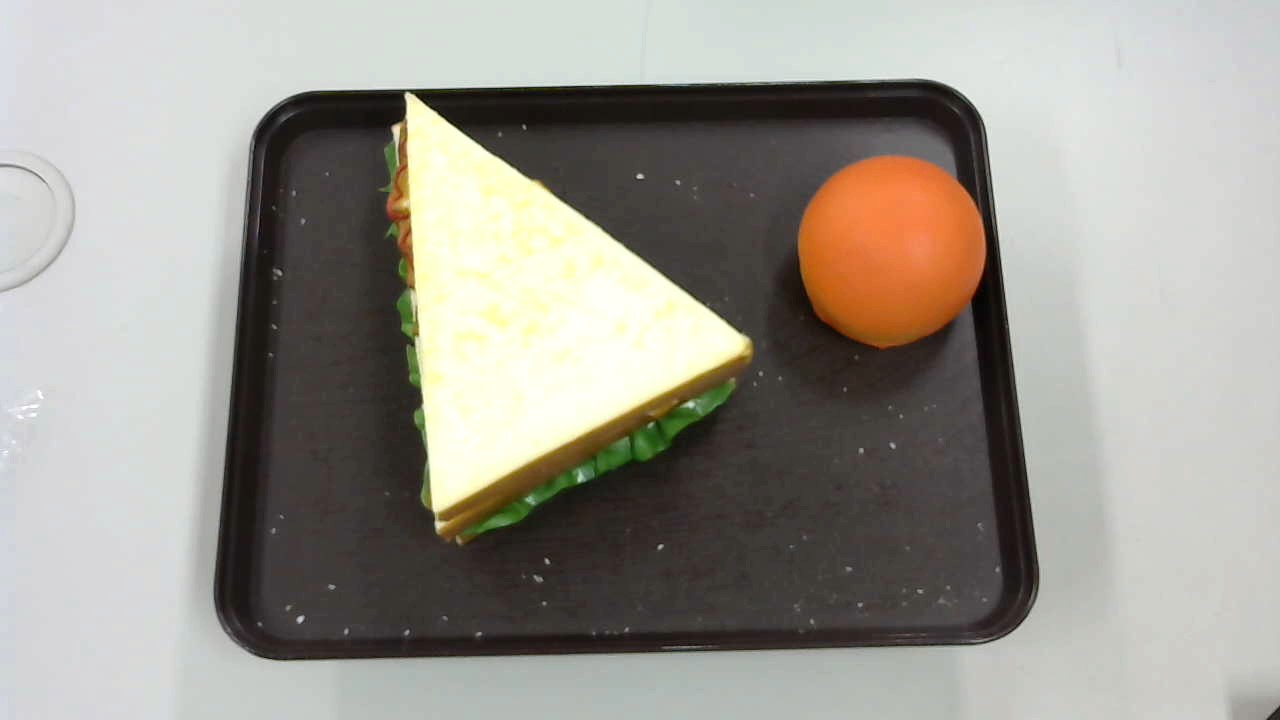bun: (798, 154, 986, 351)
sandwich: (381, 91, 758, 545)
